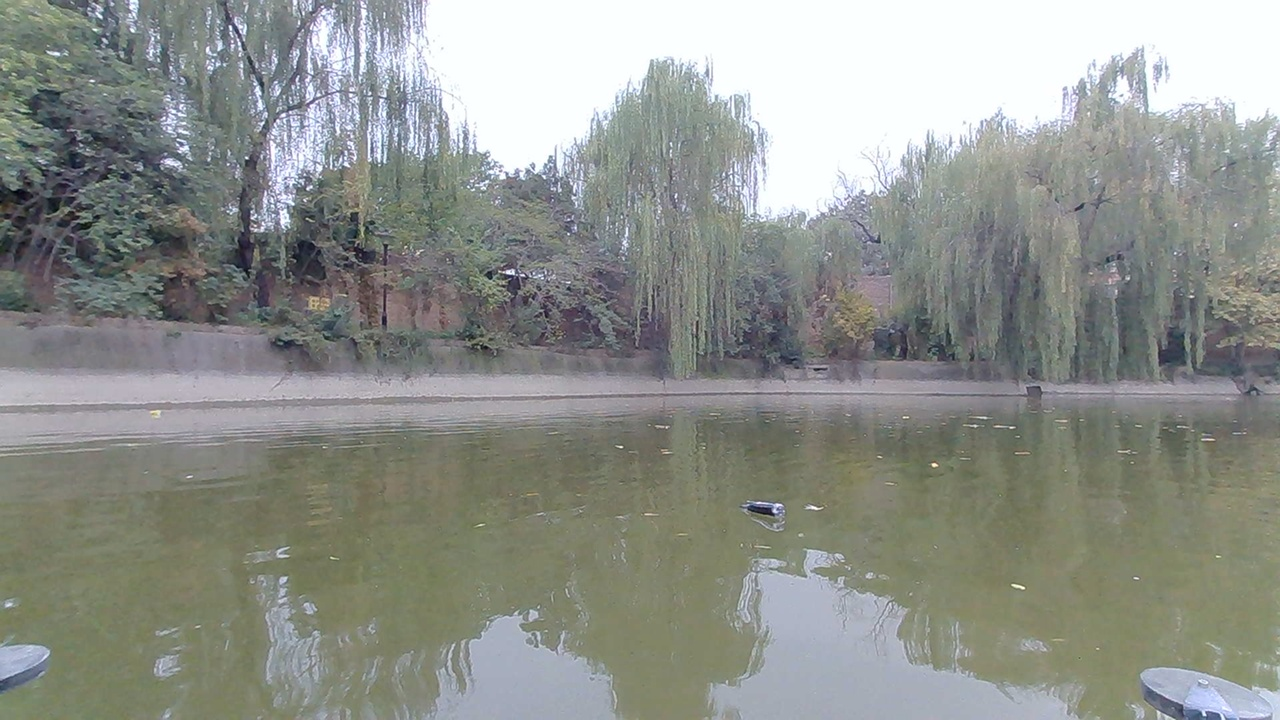bottle: (740, 493, 794, 527)
